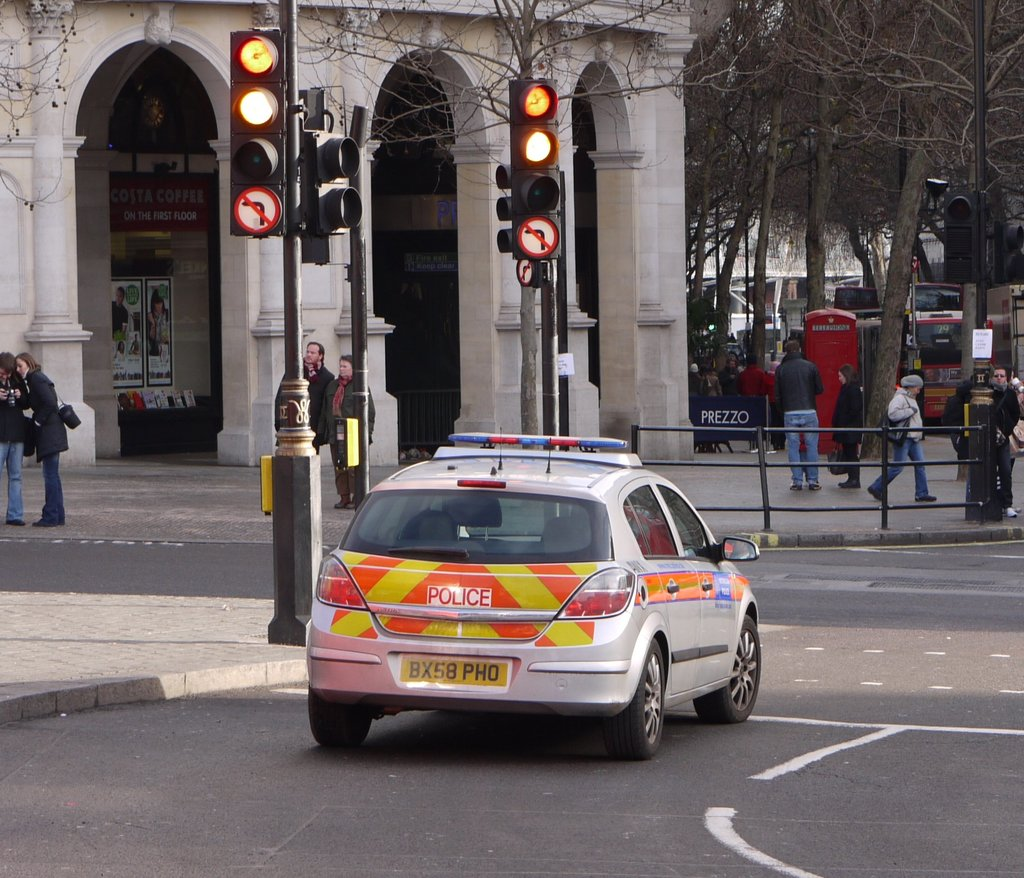Car: (304, 410, 765, 757)
